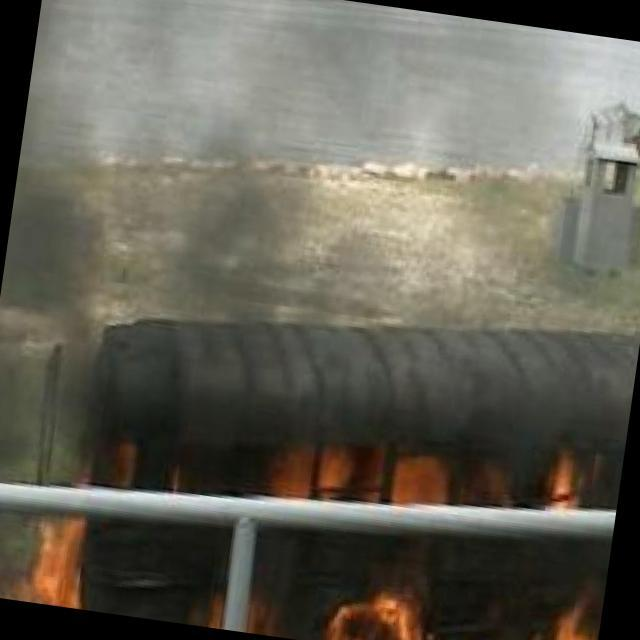Fire: (325, 572, 603, 640), (268, 436, 486, 522), (1, 504, 92, 610), (71, 449, 170, 503), (204, 596, 280, 638)
